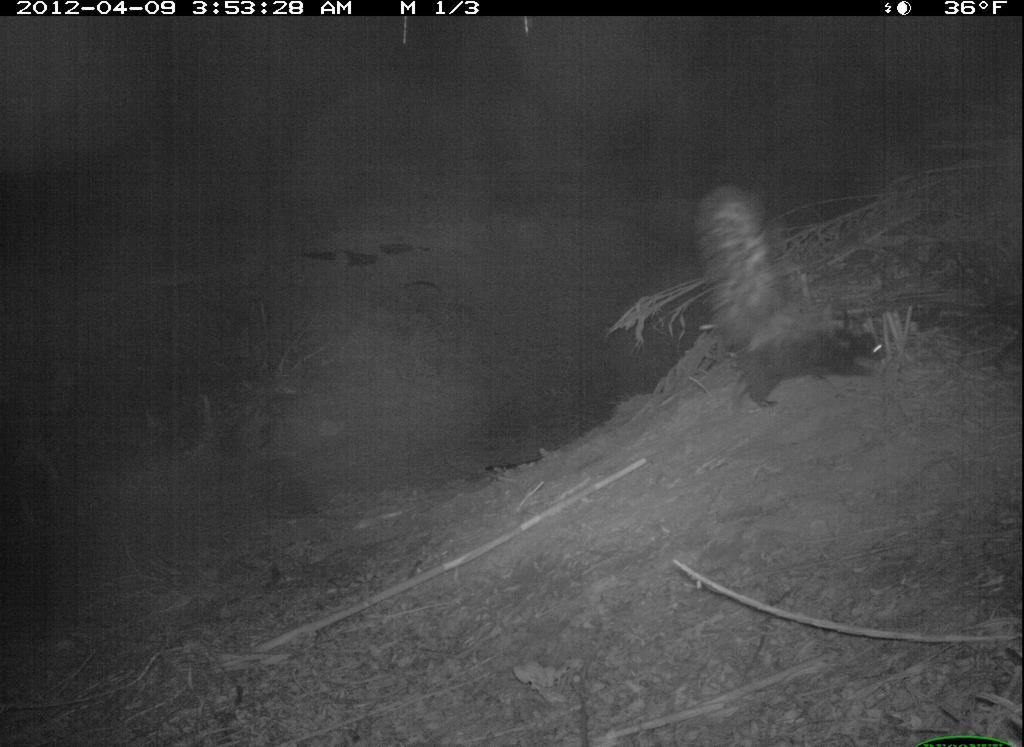skunk: (689, 171, 897, 405)
